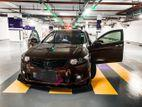car: (19, 28, 123, 87)
